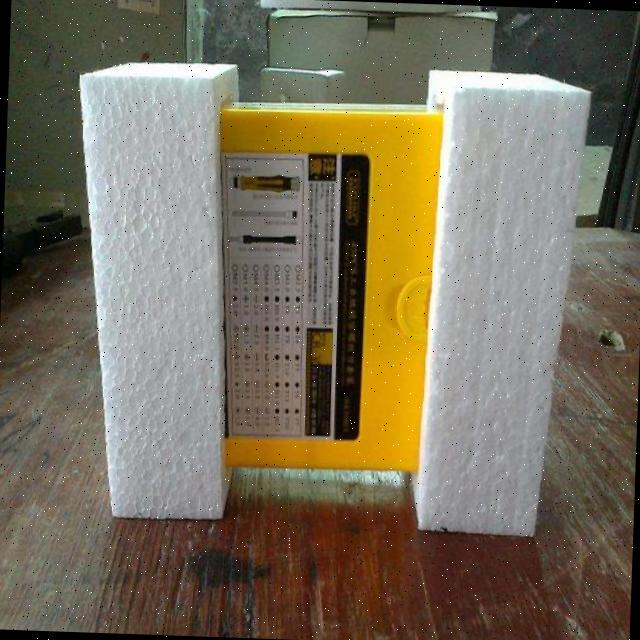styrofoam: (63, 52, 592, 538), (407, 66, 592, 538), (61, 56, 245, 522)
